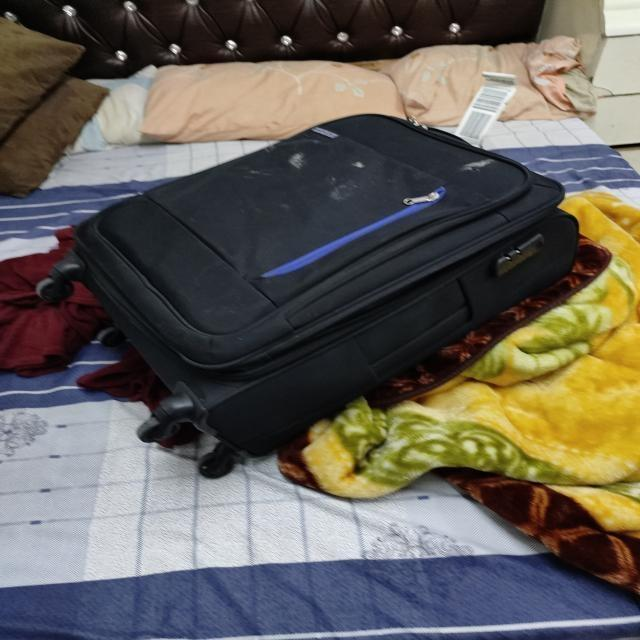Suitcase: (26, 109, 589, 477)
